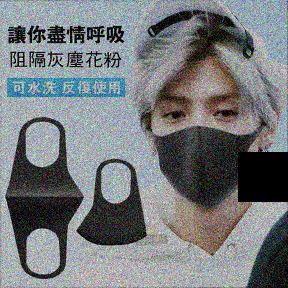with_mask: (148, 87, 260, 210)
